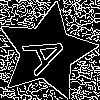A: (22, 27, 78, 77)
